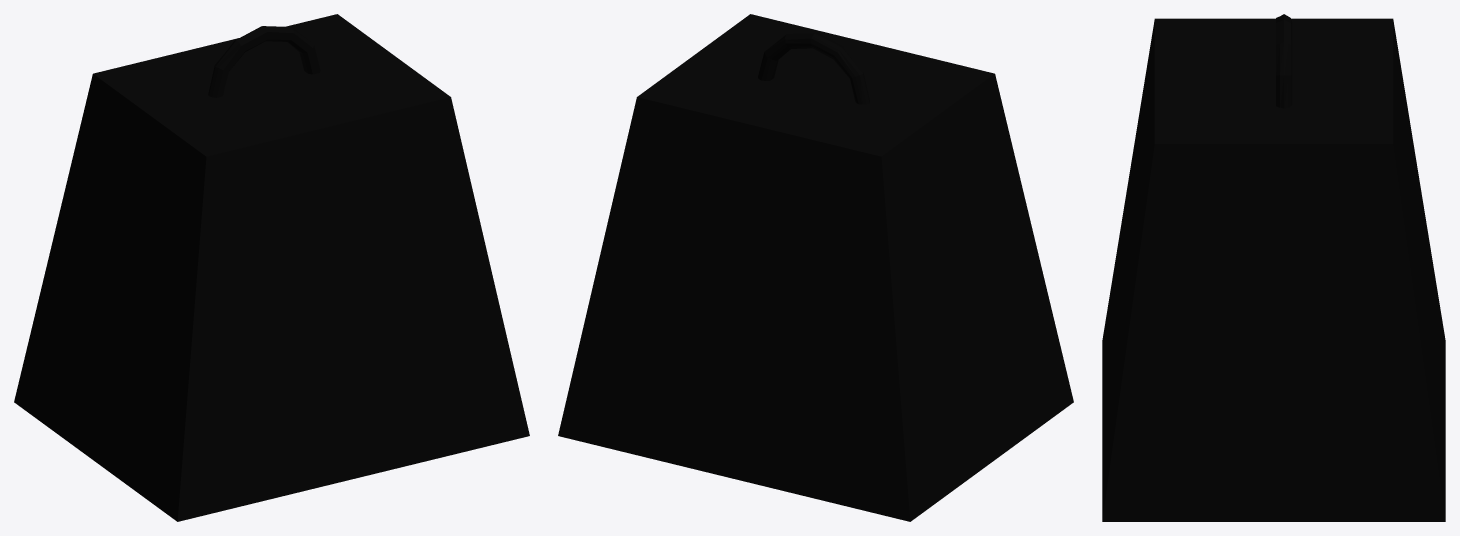
The model's file is Anvil.glb.
3 renders of one model, left to right at view 1: azimuth 30°, elevation 25°; view 2: azimuth 150°, elevation 25°; view 3: azimuth 270°, elevation 25°, orthographic. The views are drawn at different scales.
Parts seen in each view (by area): view 1: Anvil; view 2: Anvil; view 3: Anvil.
Part boxes in pixels (<box>): Anvil: <box>14,14,529,521</box>; Anvil: <box>558,14,1073,521</box>; Anvil: <box>1102,14,1445,521</box>.
Bounding box in the file's own units: 260 × 275 × 209.
Materials: 1 (1 with a texture image).
